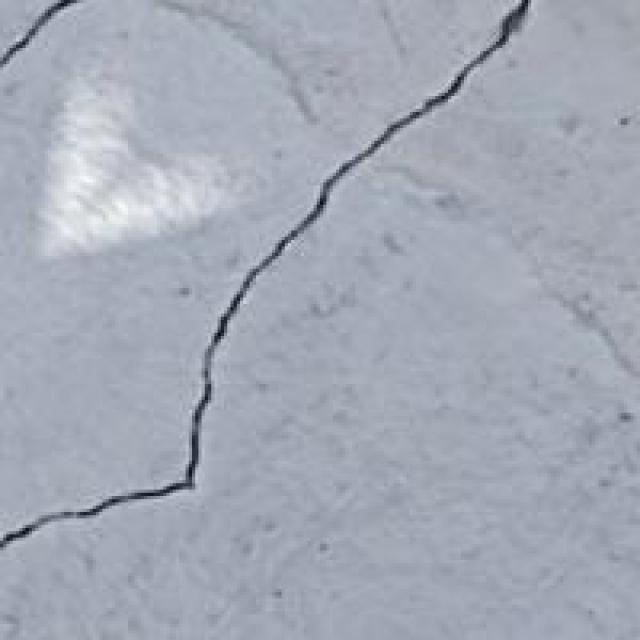Crack: (0, 0, 554, 608)
